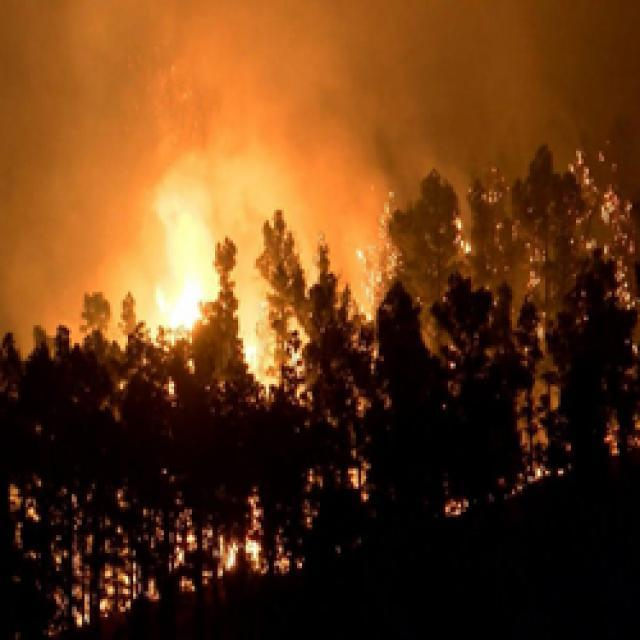Fire: (120, 114, 362, 417), (14, 522, 236, 618), (438, 436, 580, 521), (146, 510, 328, 575)
Smoke: (0, 0, 471, 205)
